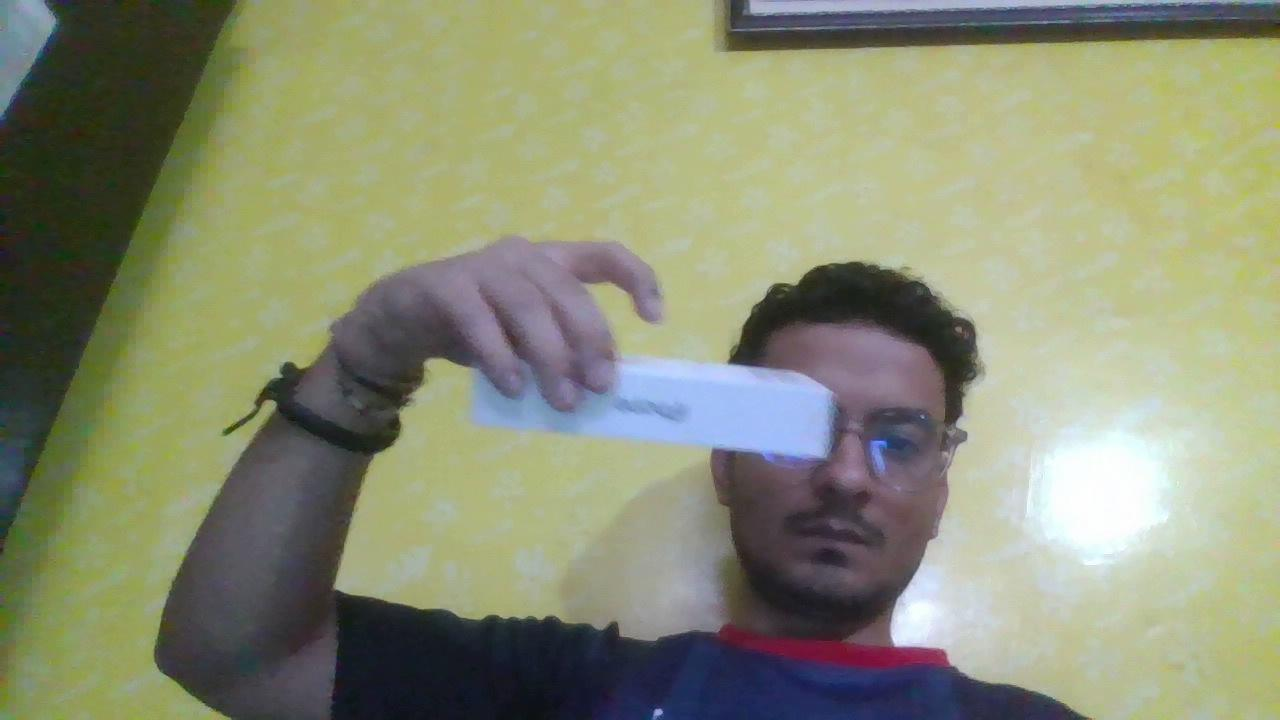Phone: (446, 319, 845, 478)
